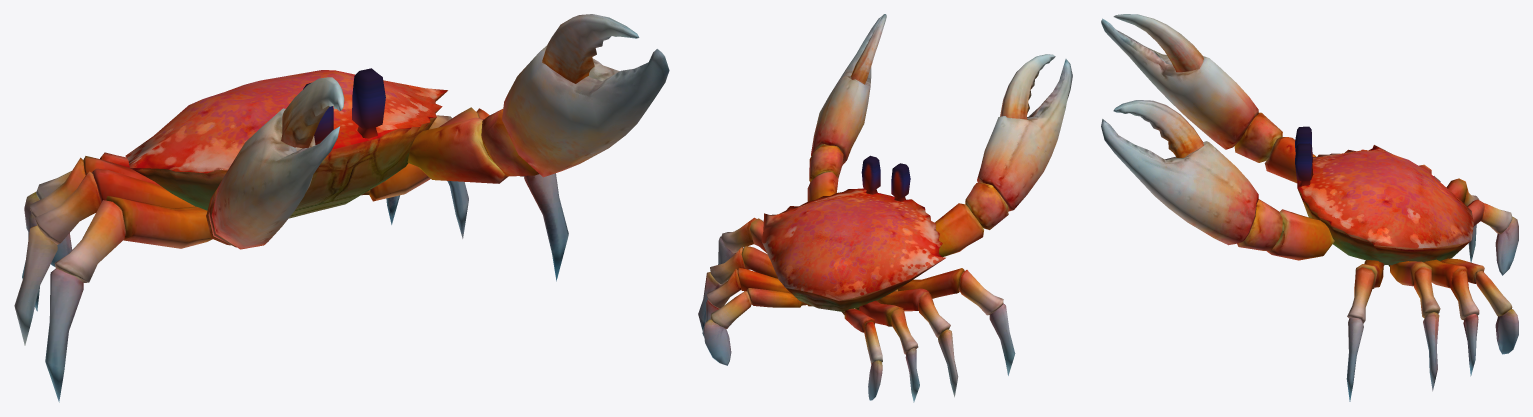
File: crab.fbx
3 renders of one model, left to right at view 1: azimuth 30°, elevation 25°; view 2: azimuth 150°, elevation 25°; view 3: azimuth 270°, elevation 25°, orthographic. The views are drawn at different scales.
Visible parts, largest first — view 1: node_id5; view 2: node_id5; view 3: node_id5.
Part boxes in pixels (box(x1,y1,x2,y2)): node_id5: box(14, 14, 669, 402); node_id5: box(698, 14, 1072, 402); node_id5: box(1101, 14, 1518, 401).
Bounding box in the file's own units: 0.512 × 0.3846 × 0.5461.
1 material, 1 textured.
